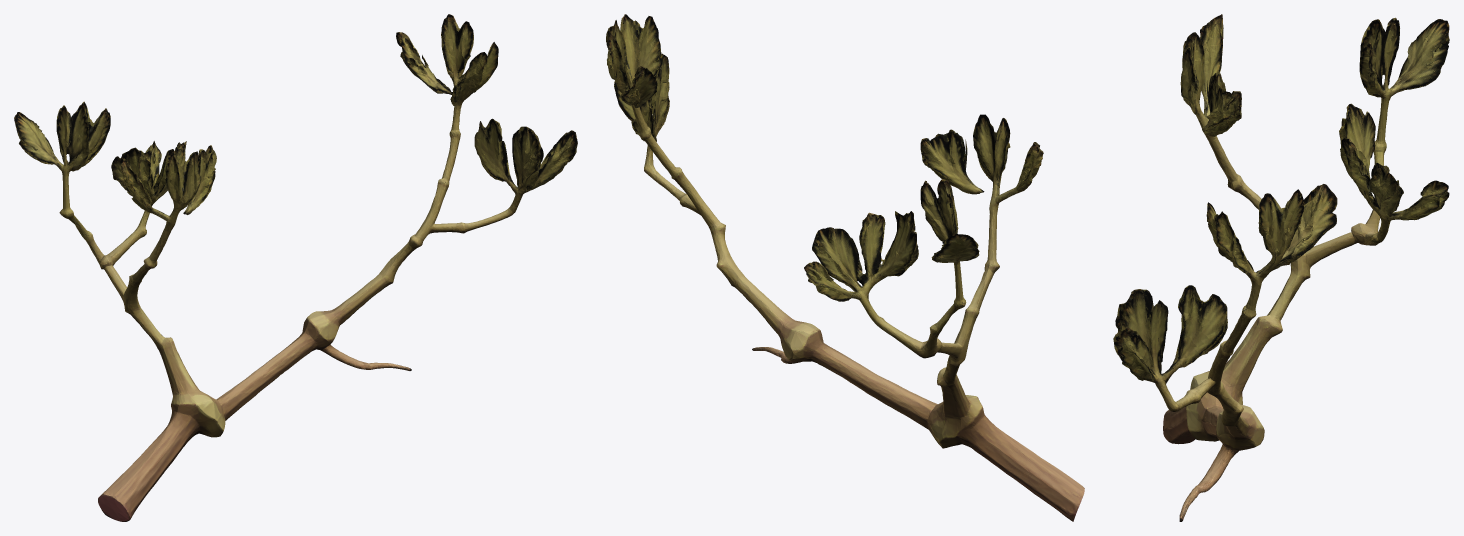
3 views of the same model, side by side, from view 1: azimuth 30°, elevation 25°; view 2: azimuth 150°, elevation 25°; view 3: azimuth 270°, elevation 25° (orthographic). The views are drawn at different scales.
Parts seen in each view (by area): view 1: world; view 2: world; view 3: world.
Boxes of the visible parts, x1,y1,x2,y2 form: world: (14,14,577,521); world: (606,14,1084,521); world: (1113,14,1449,521).
Bounding box in the file's own units: 0.9986 × 0.8189 × 0.5115.
Materials: 1 (1 with a texture image).
